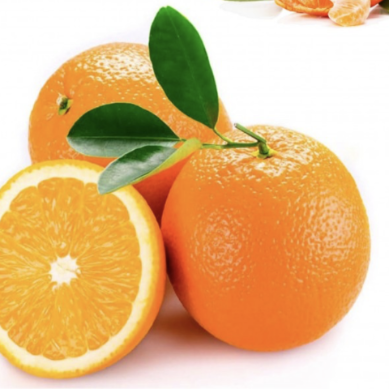orange: (146, 101, 380, 363), (21, 38, 254, 250)
